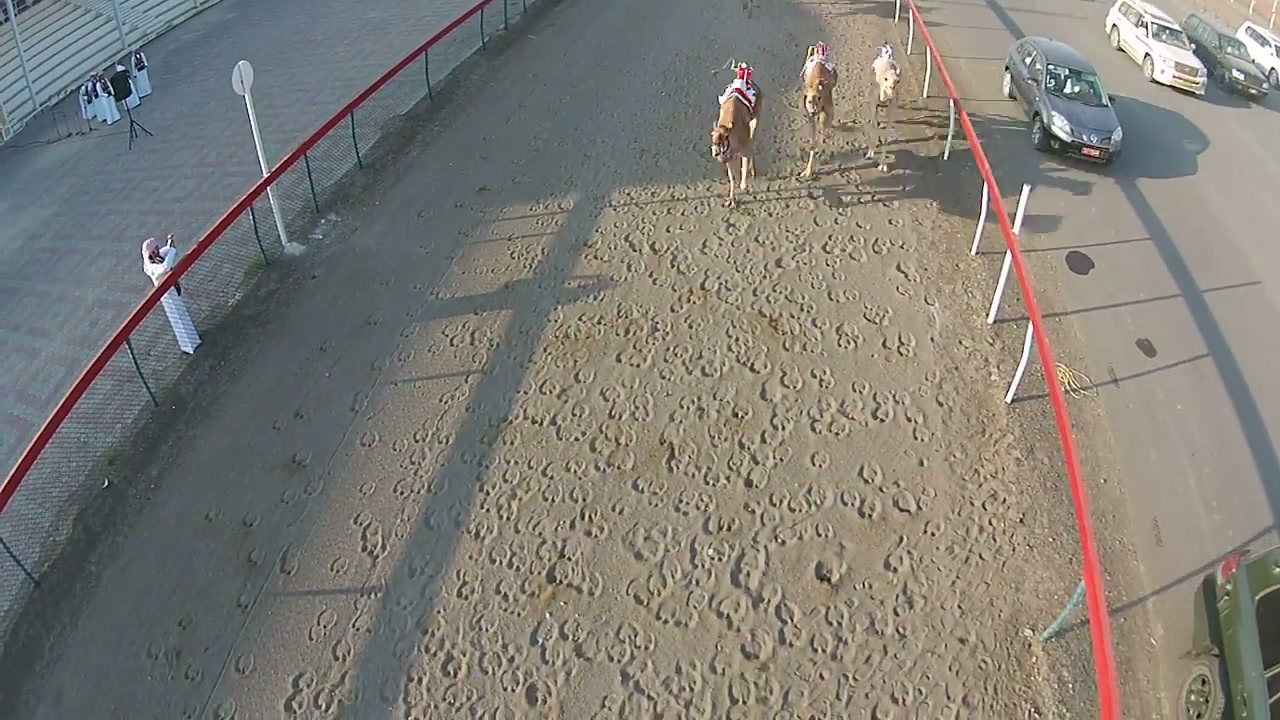animal_foot_print: (139, 2, 1077, 717), (466, 263, 968, 714), (544, 230, 1001, 715), (627, 523, 674, 562), (774, 599, 809, 651), (730, 546, 767, 593), (353, 513, 388, 562), (280, 671, 318, 716), (836, 391, 869, 427), (813, 555, 846, 586), (702, 511, 742, 536), (308, 608, 338, 641), (882, 330, 916, 358), (893, 488, 926, 514), (870, 391, 896, 422), (835, 321, 862, 350), (854, 493, 883, 519), (858, 461, 884, 488), (863, 303, 892, 326), (278, 546, 300, 575), (209, 699, 239, 719), (897, 259, 921, 282), (867, 236, 893, 256), (231, 654, 255, 675), (179, 700, 202, 719), (810, 450, 830, 469), (877, 159, 890, 173)
